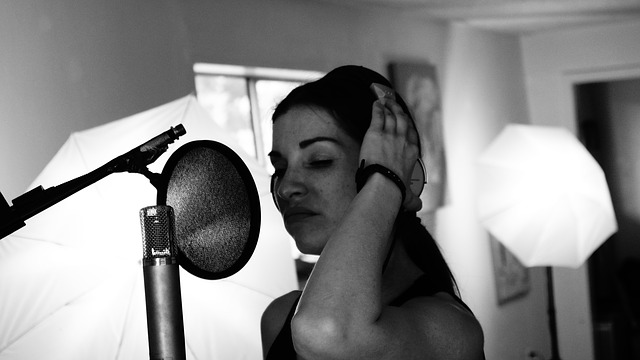headphones: (370, 72, 427, 199)
